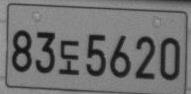0: (159, 36, 181, 80)
2: (135, 35, 155, 79)
3: (35, 31, 55, 74)
5: (85, 33, 106, 77)
6: (109, 35, 131, 78)
8: (10, 29, 32, 72)
도: (58, 39, 80, 75)
